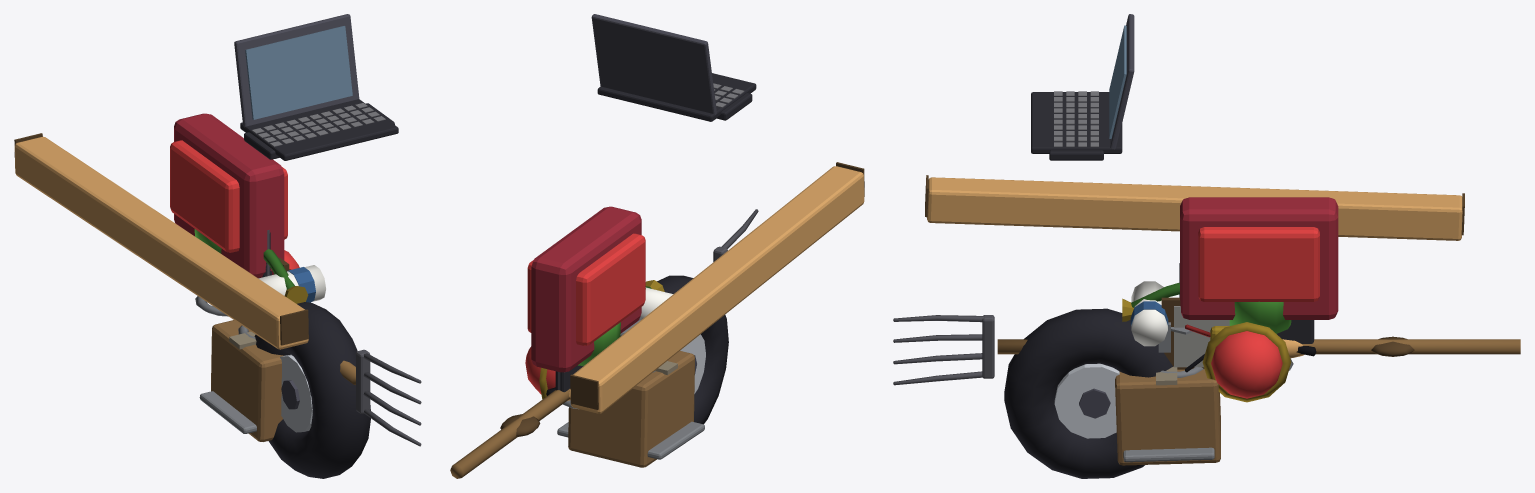
Rendered from Handprops.glb.
3 renders of one model, left to right at view 1: azimuth 30°, elevation 25°; view 2: azimuth 150°, elevation 25°; view 3: azimuth 270°, elevation 25°, orthographic.
Visible parts, largest first — view 1: Prop_Balken, Prop_Laptop, Prop_Reifen, Prop_Koffer, Prop_Kiste, Prop_Einkaufskorb, Prop_Heugabel, Prop_Tastatur, Prop_Farbroller, Prop_Giesskanne, Prop_Tablett; view 2: Prop_Balken, Prop_Laptop, Prop_Koffer, Prop_Kiste, Prop_Einkaufskorb, Prop_Reifen, Prop_Heugabel, Prop_Tablett, Prop_Tastatur, Prop_Ball, Prop_Giesskanne, Prop_Farbroller (+1 smaller); view 3: Prop_Balken, Prop_Reifen, Prop_Koffer, Prop_Einkaufskorb, Prop_Kiste, Prop_Heugabel, Prop_Laptop, Prop_Ball, Prop_Tastatur, Prop_Klemmbrett, Prop_Giesskanne, Prop_Farbroller (+2 smaller).
Part boxes in pixels (x1,y1,x2,y2): Prop_Balken: (14,133,308,349); Prop_Laptop: (234,14,398,160); Prop_Reifen: (254,302,370,478); Prop_Koffer: (174,113,284,278); Prop_Kiste: (211,320,283,441); Prop_Einkaufskorb: (170,140,287,252); Prop_Heugabel: (340,349,421,446); Prop_Tastatur: (244,103,394,159); Prop_Farbroller: (258,265,325,302); Prop_Giesskanne: (194,229,308,303); Prop_Tablett: (199,391,256,433); Prop_Balken: (570,162,864,413); Prop_Laptop: (591,14,756,121); Prop_Koffer: (531,206,641,372); Prop_Kiste: (568,351,694,467); Prop_Einkaufskorb: (527,233,645,345); Prop_Reifen: (657,275,728,424); Prop_Heugabel: (450,209,758,478); Prop_Tablett: (557,421,704,459); Prop_Tastatur: (713,83,752,120); Prop_Ball: (525,346,555,399); Prop_Giesskanne: (578,280,664,365); Prop_Farbroller: (641,287,673,318); Prop_Balken: (925,175,1464,240); Prop_Reifen: (1004,308,1172,478); Prop_Koffer: (1180,197,1338,319); Prop_Einkaufskorb: (1198,227,1319,301); Prop_Kiste: (1115,366,1220,465); Prop_Heugabel: (893,315,1520,385); Prop_Laptop: (1031,14,1134,153); Prop_Ball: (1202,322,1291,402); Prop_Tastatur: (1049,91,1103,160); Prop_Klemmbrett: (1158,297,1229,369); Prop_Giesskanne: (1122,283,1291,333); Prop_Farbroller: (1130,281,1168,346).
Size of the model in its own units: 0.34 by 0.7863 by 1.03.
1 material, 1 textured.
